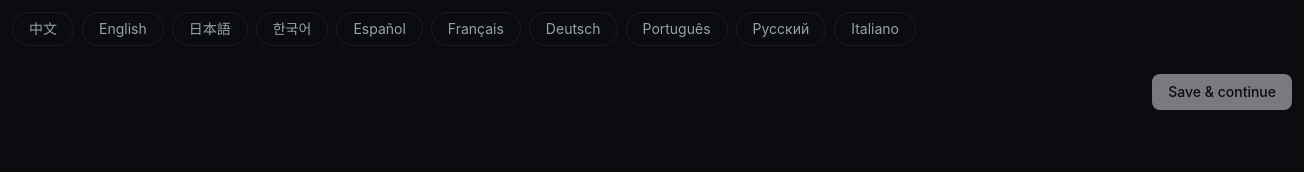
StepLanguage › PUT 失败 → 行内错误、不前进
The image size is (1304, 172).
Click the button "English": (123, 29) [82, 12, 164, 46]
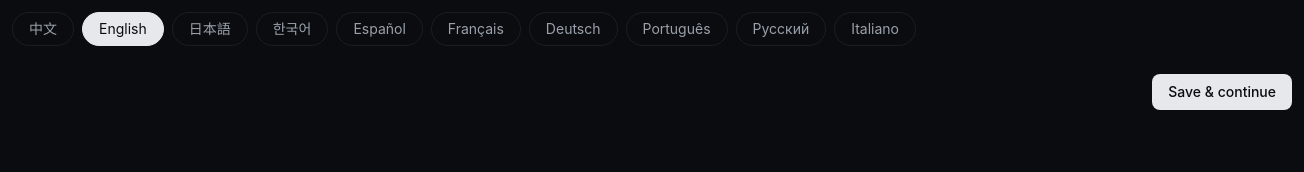
Click the button "Save & continue": (1222, 92) [1152, 74, 1292, 110]
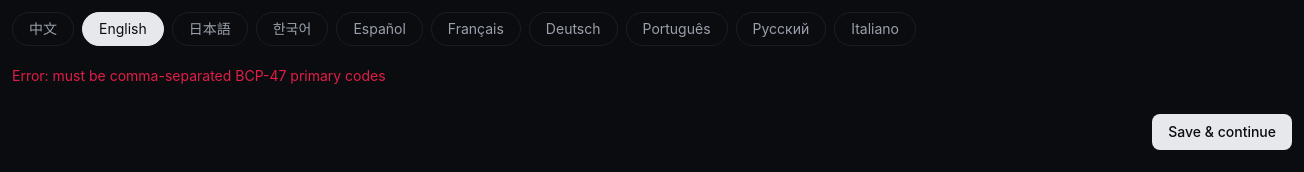
Expected: the text "Error: must be comma-separated BCP-47 primary codes" is shown, [12, 67, 386, 84]
